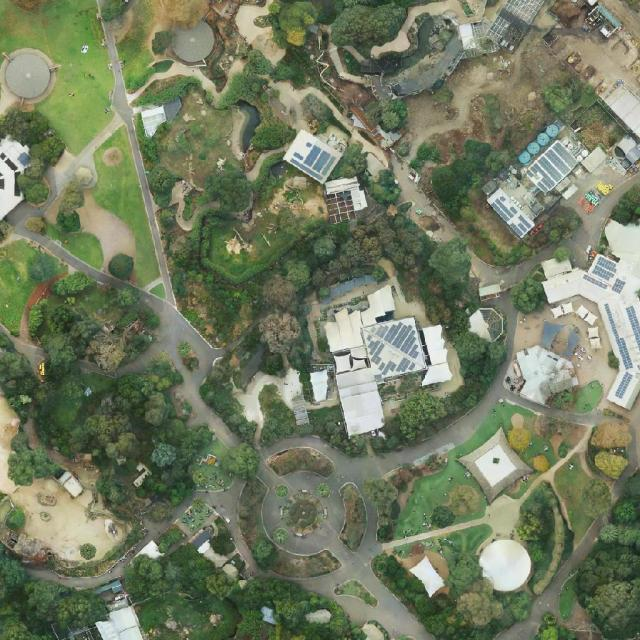building: (390, 35, 473, 108), (541, 253, 640, 306), (470, 529, 541, 600), (359, 314, 428, 383), (599, 299, 640, 409), (282, 128, 344, 186), (336, 366, 387, 436), (322, 305, 372, 374), (523, 139, 581, 197), (486, 186, 537, 239), (167, 18, 219, 67), (6, 54, 50, 98), (355, 285, 399, 326), (94, 605, 144, 640), (408, 555, 449, 597)
dryland: (406, 64, 556, 158), (513, 28, 554, 100), (0, 390, 20, 494)
greenland: (159, 199, 387, 346), (376, 390, 560, 571), (27, 349, 220, 519), (11, 246, 170, 399), (386, 319, 516, 461), (79, 125, 162, 292), (0, 546, 107, 640), (506, 478, 586, 595), (254, 383, 373, 457), (347, 196, 444, 285), (532, 453, 621, 542), (417, 126, 500, 221), (416, 276, 488, 385), (495, 201, 586, 284), (190, 357, 262, 453), (123, 108, 188, 210), (330, 141, 412, 214), (448, 193, 521, 274), (438, 550, 508, 634), (226, 312, 313, 377), (533, 62, 601, 128), (0, 428, 62, 499), (504, 262, 563, 321), (115, 0, 154, 88), (0, 332, 38, 421), (199, 161, 259, 217), (434, 518, 499, 568), (423, 235, 479, 292), (359, 469, 409, 527), (132, 71, 204, 109), (247, 112, 298, 163), (217, 438, 266, 487), (212, 70, 270, 110), (236, 477, 268, 549), (267, 446, 336, 478), (270, 550, 340, 578), (340, 484, 366, 551), (590, 444, 630, 482), (244, 534, 281, 570), (591, 421, 633, 451), (198, 438, 229, 476), (151, 523, 186, 555), (426, 501, 458, 532), (380, 98, 408, 133), (536, 615, 575, 640), (208, 528, 238, 559), (242, 49, 274, 75), (188, 467, 209, 489), (155, 119, 172, 138), (554, 246, 570, 262), (378, 431, 386, 442)
metalled_road: (102, 291, 281, 449), (93, 24, 181, 308), (299, 500, 474, 640), (254, 451, 392, 628), (378, 365, 527, 490), (496, 514, 624, 640), (540, 148, 640, 269), (40, 112, 143, 206), (10, 222, 120, 287), (475, 290, 539, 364), (315, 443, 399, 490), (501, 394, 604, 429), (202, 475, 260, 537), (30, 562, 123, 591), (470, 256, 540, 292), (4, 188, 60, 230), (226, 525, 261, 577), (262, 436, 339, 458), (141, 277, 164, 295), (489, 376, 505, 399)
unmetalled_road: (361, 0, 465, 68), (230, 0, 288, 72), (382, 516, 488, 551), (538, 439, 592, 490), (478, 487, 526, 543), (151, 57, 219, 92), (126, 87, 148, 103)
